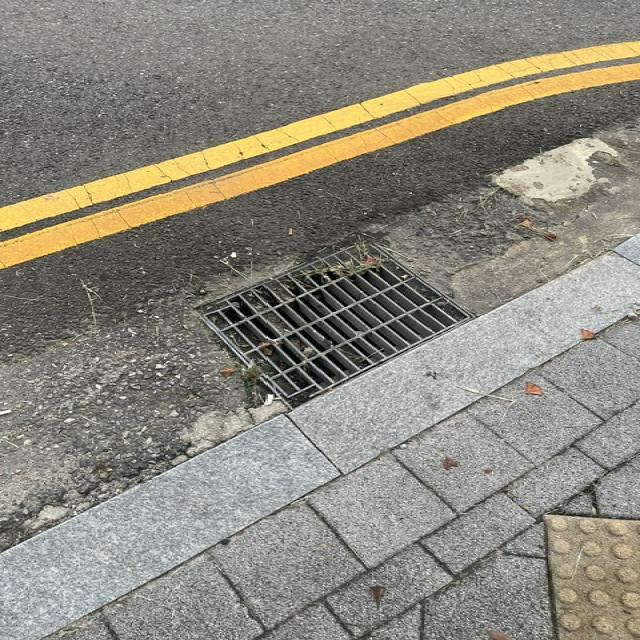drain_area: (259, 267, 458, 387), (223, 297, 284, 350)
drain_full: (195, 233, 472, 409)
